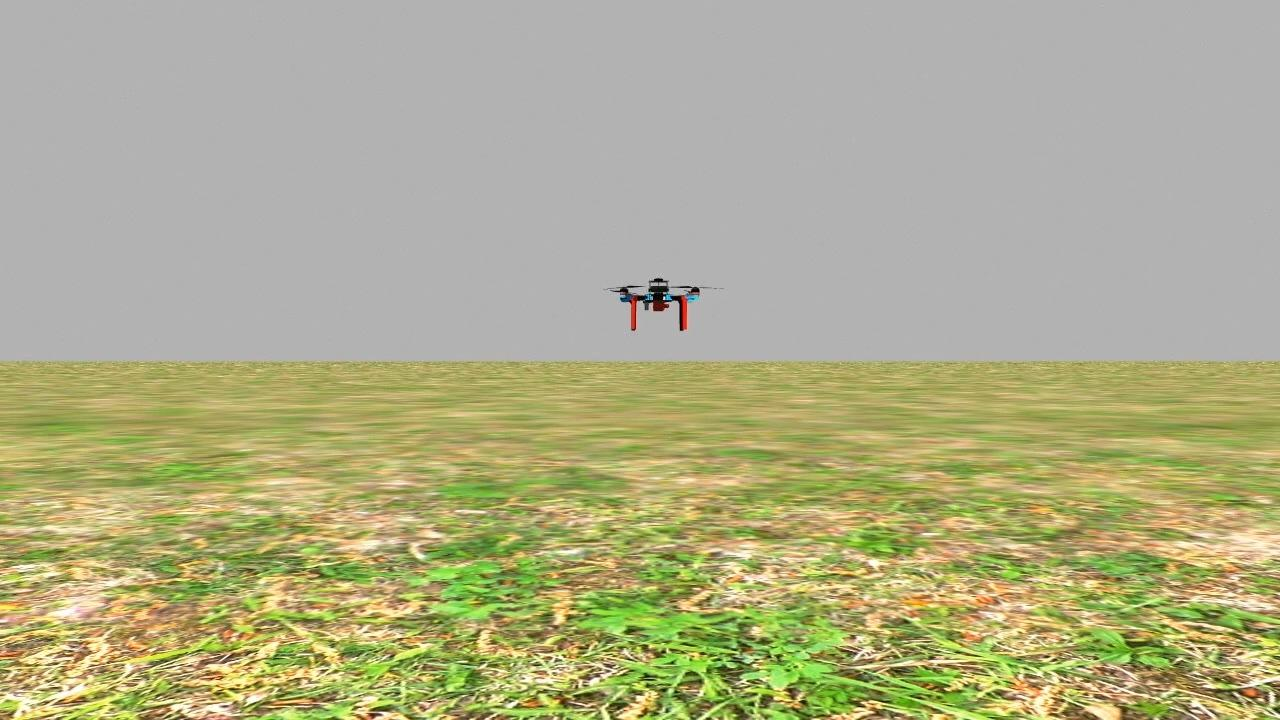UAV: (599, 269, 720, 343)
